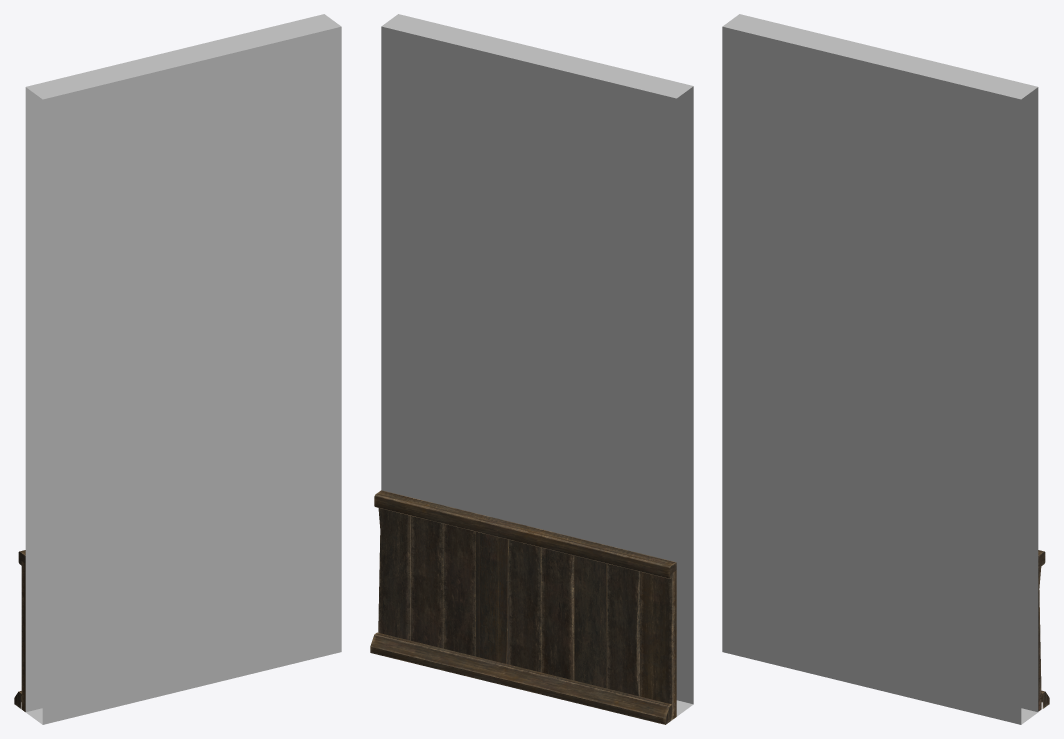
File: SM_Wall_2m_DG_01.fbx
3 renders of one model, left to right at view 1: azimuth 30°, elevation 25°; view 2: azimuth 150°, elevation 25°; view 3: azimuth 330°, elevation 25°, orthographic.
Visible parts, largest first — view 1: SM_Wall_2m_DG_01; view 2: SM_Wall_2m_DG_01; view 3: SM_Wall_2m_DG_01.
Part boxes in pixels (x1=…): SM_Wall_2m_DG_01: x1=14, y1=14, x2=341, y2=724; SM_Wall_2m_DG_01: x1=370, y1=14, x2=693, y2=724; SM_Wall_2m_DG_01: x1=722, y1=14, x2=1049, y2=724.
Bounding box in the file's own units: 2 × 4 × 0.33.
